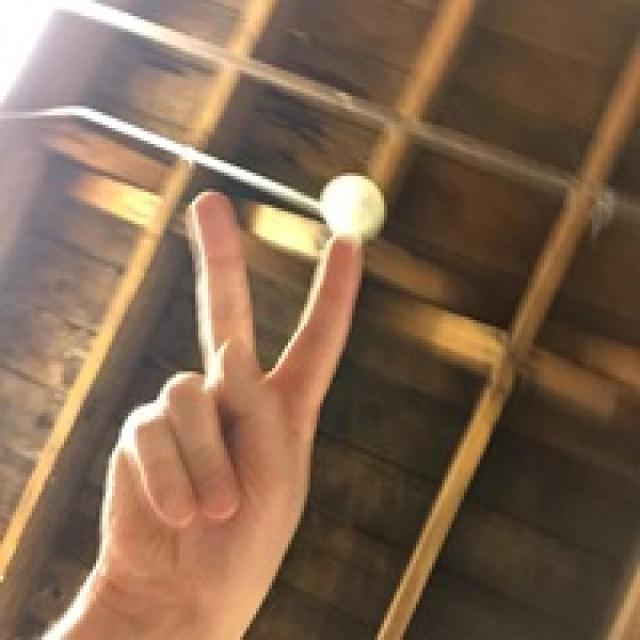K: (90, 123, 408, 640)
